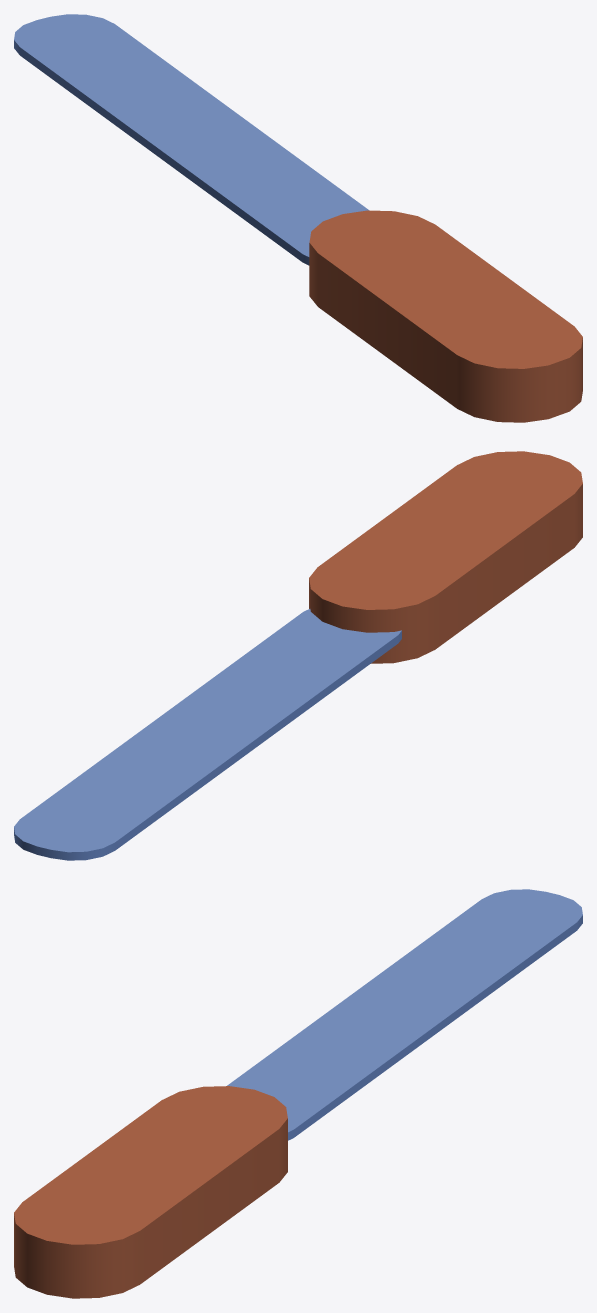
File: Knife D.fbx
3 renders of one model, top to bottom at view 1: azimuth 30°, elevation 25°; view 2: azimuth 150°, elevation 25°; view 3: azimuth 330°, elevation 25°, orthographic.
Parts seen in each view (by area): view 1: Knife.004; view 2: Knife.004; view 3: Knife.004.
Boxes of the visible parts, x1,y1,x2,y2 form: Knife.004: (14,14,582,422); Knife.004: (14,451,582,860); Knife.004: (14,889,582,1298).
Bounding box in the file's own units: 0.0973 × 0.0426 × 0.7251.
